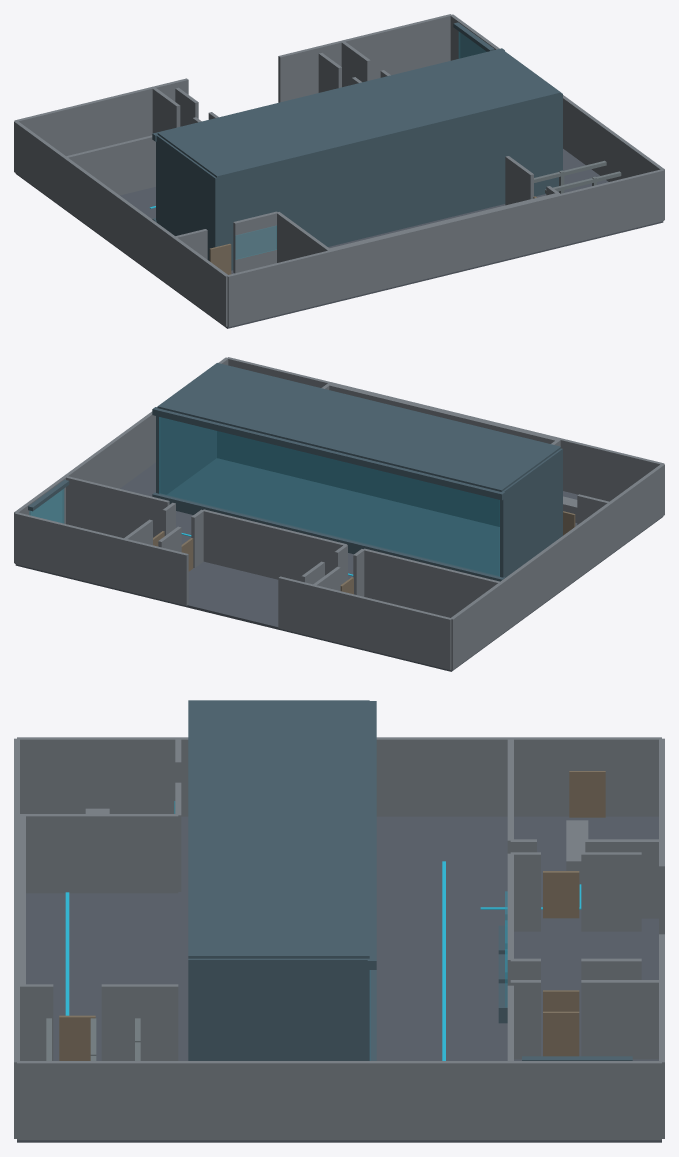
Rendered from aquarium_greybox.glb.
3 renders of one model, top to bottom at view 1: azimuth 30°, elevation 25°; view 2: azimuth 150°, elevation 25°; view 3: azimuth 270°, elevation 25°, orthographic. The views are drawn at different scales.
Visible parts, largest first — view 1: Concrete, TankShell, Floor, Glass, Pipe, Door; view 2: Concrete, TankShell, Glass, Floor, Door; view 3: Concrete, TankShell, Floor, Door, Route, Pipe.
Boxes of the visible parts, x1,y1,x2,y2 form: Concrete: (14,14,664,327); TankShell: (152,22,562,270); Floor: (15,149,663,328); Glass: (235,32,486,259); Pipe: (534,160,621,193); Door: (209,196,536,274); Concrete: (14,357,664,670); TankShell: (28,363,562,581); Glass: (29,417,499,576); Floor: (15,462,663,671); Door: (153,511,575,594); Concrete: (14,737,664,1140); TankShell: (188,700,632,1060); Floor: (17,816,661,1142); Door: (59,771,605,1060); Route: (65,861,581,1060); Pipe: (46,1018,140,1060).
Size of the model in its own units: 38.3 by 8.35 by 32.3.
